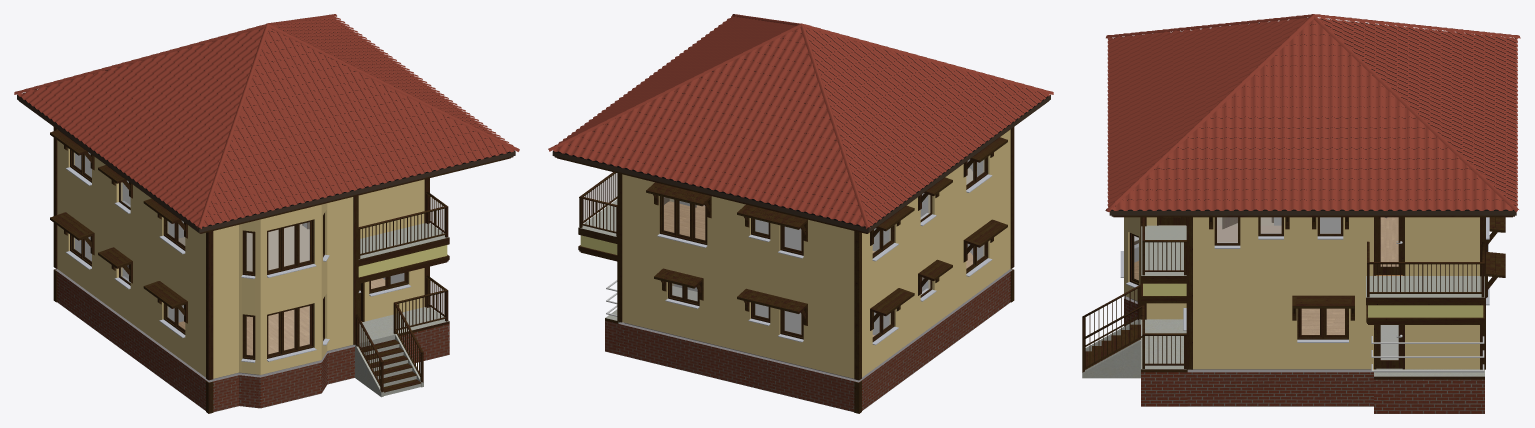
Rendered from casa_com_interior.glb.
The picture shows the model from 3 angles, left to right: view 1: azimuth 30°, elevation 25°; view 2: azimuth 150°, elevation 25°; view 3: azimuth 270°, elevation 25°; orthographic projection. The views are drawn at different scales.
Visible parts, largest first — view 1: Plane.019, walls.001, walls, roof, walls.003, Cube.012, Plane.015, Window.019, Window, Cube.021, Stairs.003, Plane (+10 smaller); view 2: Plane.019, walls.001, walls, roof, walls.003, Window.013, Cube.026, Plane.011, Plane.018, Window.018, Window.006, Window.008 (+5 smaller); view 3: Plane.019, walls.001, walls, roof, Plane.016, Plane.015, Plane.018, Cube.012, walls.003, Cube.026, Window.009, Door.006 (+12 smaller).
Boxes of the visible parts, x1=… form: Plane.019: x1=14, y1=14, x2=519, y2=228; walls.001: x1=55, y1=185, x2=424, y2=412; walls: x1=53, y1=127, x2=449, y2=413; roof: x1=17, y1=19, x2=515, y2=233; walls.003: x1=50, y1=130, x2=187, y2=323; Cube.012: x1=355, y1=275, x2=448, y2=392; Plane.015: x1=359, y1=307, x2=449, y2=362; Window.019: x1=267, y1=219, x2=316, y2=277; Window: x1=267, y1=303, x2=316, y2=361; Cube.021: x1=358, y1=192, x2=448, y2=258; Stairs.003: x1=361, y1=339, x2=421, y2=395; Plane: x1=178, y1=278, x2=385, y2=355; Plane.019: x1=548, y1=14, x2=1053, y2=228; walls.001: x1=618, y1=185, x2=1012, y2=411; walls: x1=578, y1=127, x2=1014, y2=413; roof: x1=552, y1=30, x2=1050, y2=233; walls.003: x1=646, y1=137, x2=1007, y2=330; Window.013: x1=657, y1=196, x2=707, y2=247; Cube.026: x1=579, y1=172, x2=617, y2=236; Plane.011: x1=664, y1=201, x2=705, y2=239; Plane.018: x1=578, y1=235, x2=617, y2=261; Window.018: x1=778, y1=225, x2=803, y2=258; Window.006: x1=778, y1=309, x2=803, y2=342; Window.008: x1=665, y1=282, x2=699, y2=308; Plane.019: x1=1105, y1=14, x2=1520, y2=212; walls.001: x1=1124, y1=217, x2=1479, y2=406; walls: x1=1140, y1=217, x2=1485, y2=369; roof: x1=1109, y1=19, x2=1516, y2=217; Plane.016: x1=1374, y1=369, x2=1484, y2=413; Plane.015: x1=1141, y1=319, x2=1187, y2=406; Plane.018: x1=1141, y1=283, x2=1484, y2=324; Cube.012: x1=1082, y1=285, x2=1186, y2=372; walls.003: x1=1209, y1=217, x2=1505, y2=320; Cube.026: x1=1367, y1=241, x2=1484, y2=297; Window.009: x1=1297, y1=308, x2=1348, y2=342; Door.006: x1=1376, y1=217, x2=1402, y2=274.
Size of the model in its own units: 8.27 by 7.34 by 8.71.
Materials: 16 (5 with a texture image).
